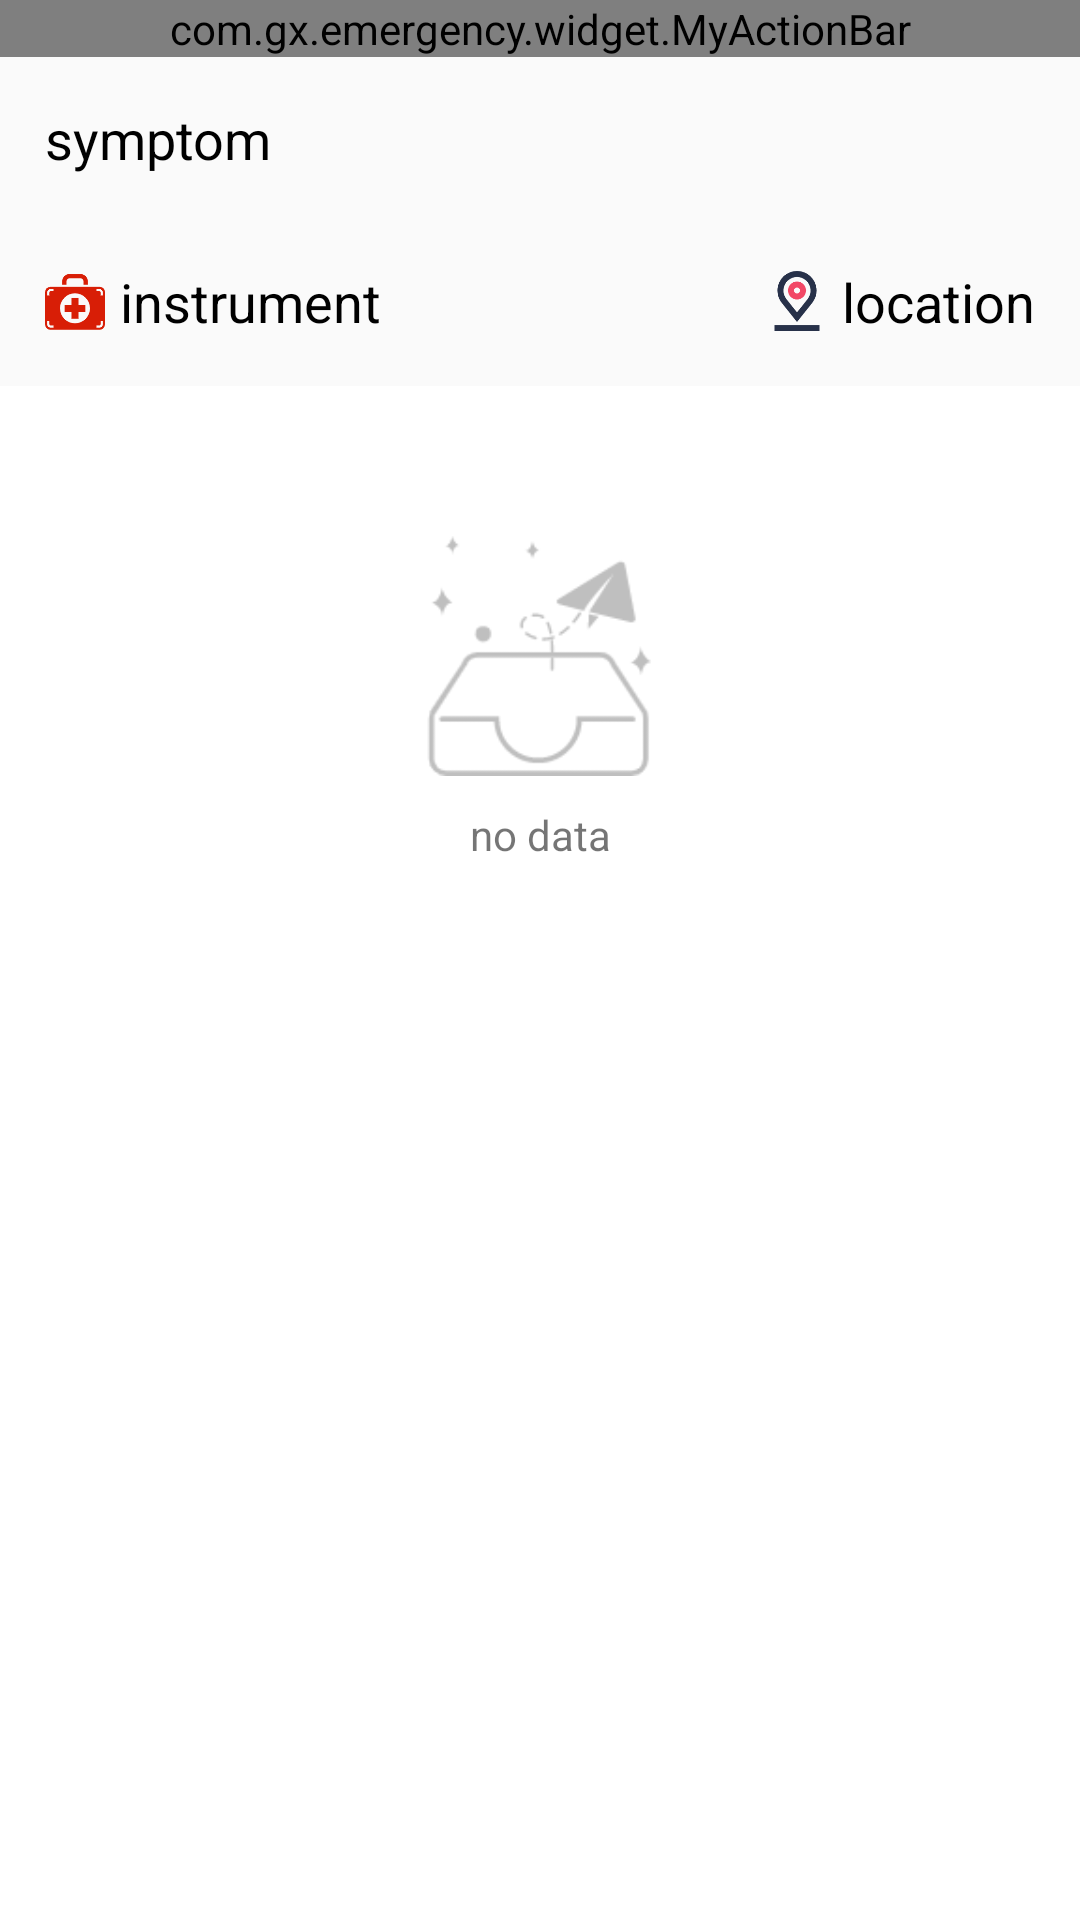

Named icons in this screenshot (1080×1920) and their centers, (x,y):
empty: (539,657)
medicine bag checked: (75,302)
